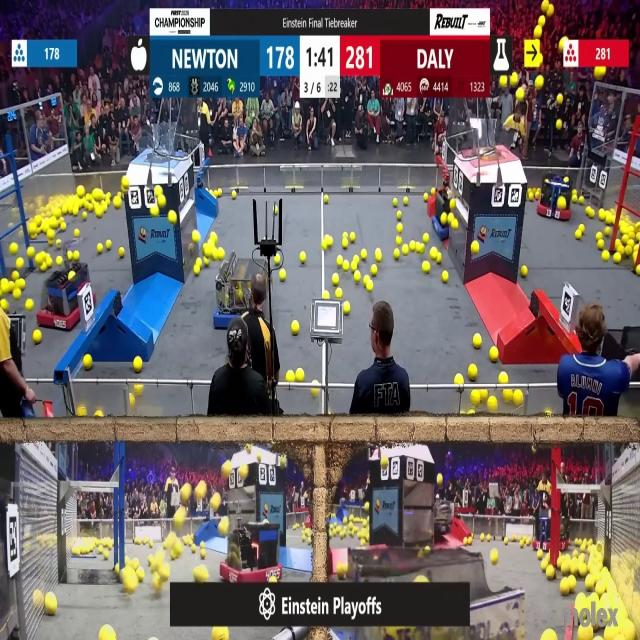ball_airborne: (181, 485, 191, 504), (175, 511, 185, 529), (197, 483, 207, 500), (221, 461, 230, 478), (211, 494, 220, 510), (240, 464, 250, 478), (535, 75, 543, 88), (511, 73, 519, 86), (594, 67, 602, 80), (169, 211, 177, 224), (159, 197, 167, 209), (154, 184, 162, 196), (533, 27, 541, 39), (516, 90, 524, 102), (545, 4, 553, 16), (505, 116, 513, 127), (150, 206, 158, 217), (533, 56, 541, 66), (538, 14, 545, 25), (381, 457, 388, 468), (499, 76, 506, 86), (557, 119, 563, 130), (558, 96, 564, 106)
ball_ground: (45, 594, 56, 616), (125, 578, 137, 594), (100, 627, 114, 640), (560, 580, 570, 597), (151, 574, 161, 591), (219, 518, 228, 536), (339, 562, 349, 578), (161, 564, 171, 580), (193, 567, 203, 581), (586, 578, 596, 592), (488, 396, 498, 409), (542, 630, 555, 640), (468, 363, 476, 379), (569, 578, 577, 594), (490, 348, 499, 362), (134, 356, 142, 371), (83, 354, 91, 369), (515, 390, 523, 405), (470, 390, 479, 403), (472, 335, 480, 349), (34, 331, 42, 345), (0, 279, 8, 293), (478, 389, 488, 400), (503, 389, 512, 401), (416, 574, 428, 583), (291, 320, 298, 335), (295, 367, 303, 380), (545, 566, 553, 579), (204, 244, 212, 257), (491, 551, 498, 565), (0, 301, 8, 313), (286, 371, 294, 383), (470, 242, 478, 254), (9, 243, 17, 255), (344, 303, 351, 316), (138, 568, 145, 581), (121, 176, 128, 189), (499, 373, 507, 384), (456, 374, 464, 385), (422, 263, 430, 274), (191, 232, 199, 243), (602, 250, 610, 261), (77, 408, 85, 419), (96, 206, 104, 217), (605, 213, 613, 224), (94, 188, 102, 199), (443, 272, 450, 284), (27, 300, 34, 312), (354, 272, 361, 284), (217, 248, 224, 260), (331, 274, 338, 286), (15, 257, 22, 269), (614, 253, 622, 263), (210, 234, 218, 244), (616, 240, 624, 250), (134, 384, 142, 394), (394, 248, 401, 259), (275, 253, 282, 264), (36, 253, 43, 264), (370, 265, 376, 277), (280, 270, 286, 282), (522, 266, 528, 278), (376, 250, 382, 262), (114, 198, 120, 210), (28, 248, 36, 257), (16, 280, 24, 289), (625, 246, 633, 255), (343, 262, 350, 272), (13, 289, 20, 299), (365, 282, 372, 292), (597, 240, 604, 250), (349, 233, 356, 243), (401, 245, 408, 255), (587, 208, 594, 218), (417, 243, 424, 253), (204, 256, 211, 266), (539, 561, 546, 571), (604, 225, 611, 235), (344, 230, 351, 240), (337, 287, 343, 298), (430, 248, 436, 259), (411, 241, 417, 252), (528, 189, 534, 200), (633, 252, 639, 263), (148, 555, 154, 566), (598, 210, 604, 221), (442, 213, 448, 224), (47, 231, 54, 240), (312, 388, 319, 397), (363, 275, 370, 284), (299, 252, 305, 262), (423, 234, 429, 244), (396, 237, 402, 247), (193, 267, 199, 277), (404, 198, 410, 208), (98, 244, 104, 254), (57, 255, 63, 265), (396, 222, 402, 232), (343, 238, 349, 248), (114, 564, 120, 574), (61, 220, 67, 230), (424, 544, 430, 554), (134, 558, 140, 568), (11, 272, 18, 280), (596, 233, 603, 241), (106, 241, 112, 250), (323, 290, 329, 299), (435, 254, 441, 263), (536, 551, 542, 560), (396, 211, 402, 220), (73, 251, 79, 260), (578, 197, 584, 206), (72, 207, 78, 216), (450, 201, 456, 210), (118, 248, 123, 258), (361, 250, 366, 260), (338, 256, 343, 266), (46, 257, 51, 267), (96, 412, 103, 419), (574, 232, 580, 240), (74, 230, 80, 238), (392, 200, 398, 208), (194, 257, 200, 265), (322, 242, 328, 250), (464, 536, 470, 544), (40, 265, 46, 273), (452, 220, 458, 228), (571, 194, 577, 202), (81, 212, 87, 220), (353, 255, 359, 263), (56, 240, 62, 248), (623, 236, 629, 244), (351, 263, 356, 272), (104, 551, 109, 560), (68, 251, 73, 260), (106, 190, 111, 199), (271, 576, 278, 582), (48, 240, 54, 247), (636, 266, 640, 276), (578, 223, 583, 231), (202, 550, 206, 560), (364, 502, 369, 510), (341, 533, 346, 541), (217, 188, 222, 196), (424, 192, 428, 201), (449, 214, 453, 223), (503, 537, 508, 544), (360, 538, 365, 545), (99, 545, 104, 552), (430, 188, 435, 195), (324, 194, 328, 202), (191, 544, 195, 552), (636, 234, 640, 242), (481, 534, 486, 540), (201, 541, 206, 547), (488, 538, 493, 544), (234, 191, 238, 198), (275, 207, 279, 214)
goal: (466, 122, 522, 160), (131, 130, 188, 160)
robot_blue: (213, 260, 253, 332)
robot_red: (224, 519, 285, 583), (41, 261, 89, 332), (536, 174, 572, 220), (534, 512, 573, 552)
